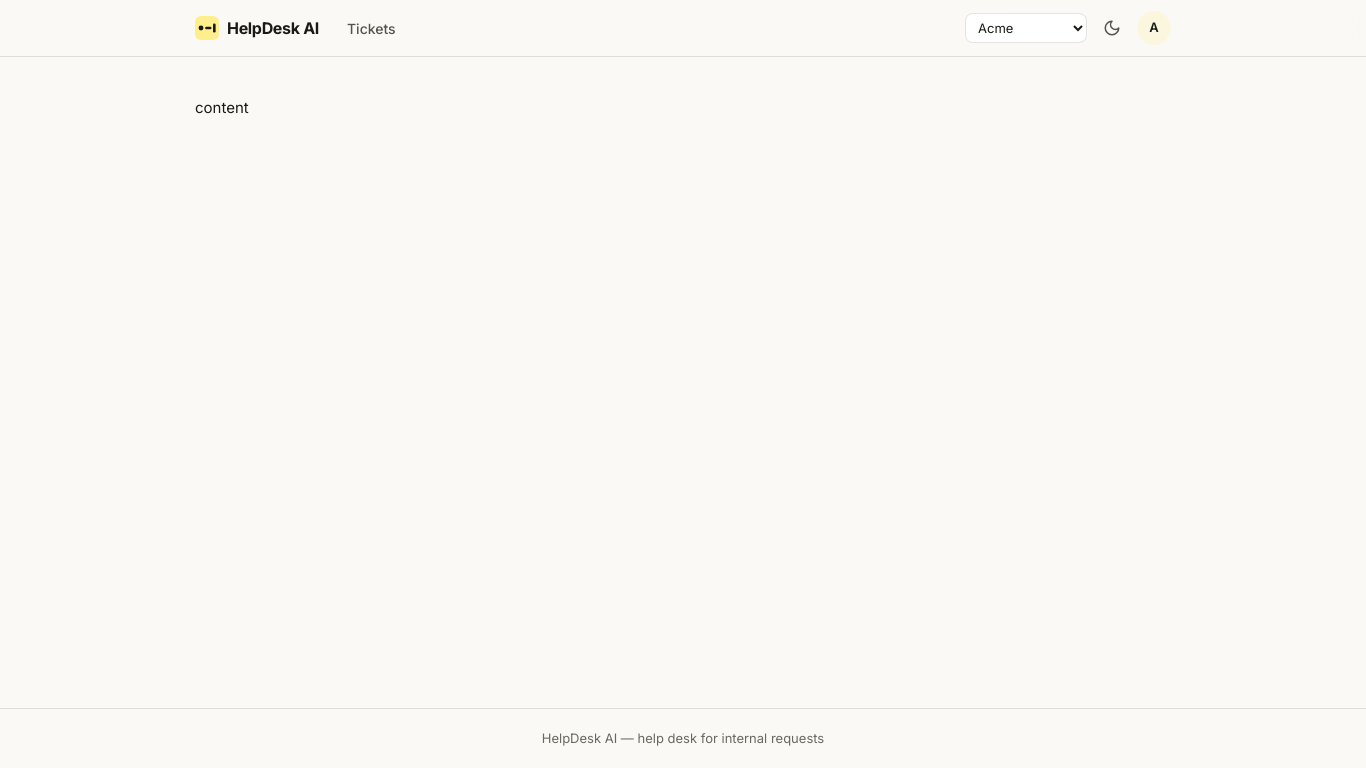
Test: the organization switcher › does not sign anybody out when a switch is refused
Select "Ferretería Sur" in the dropdown named "Organization": (1026, 28) [965,13,1087,43]
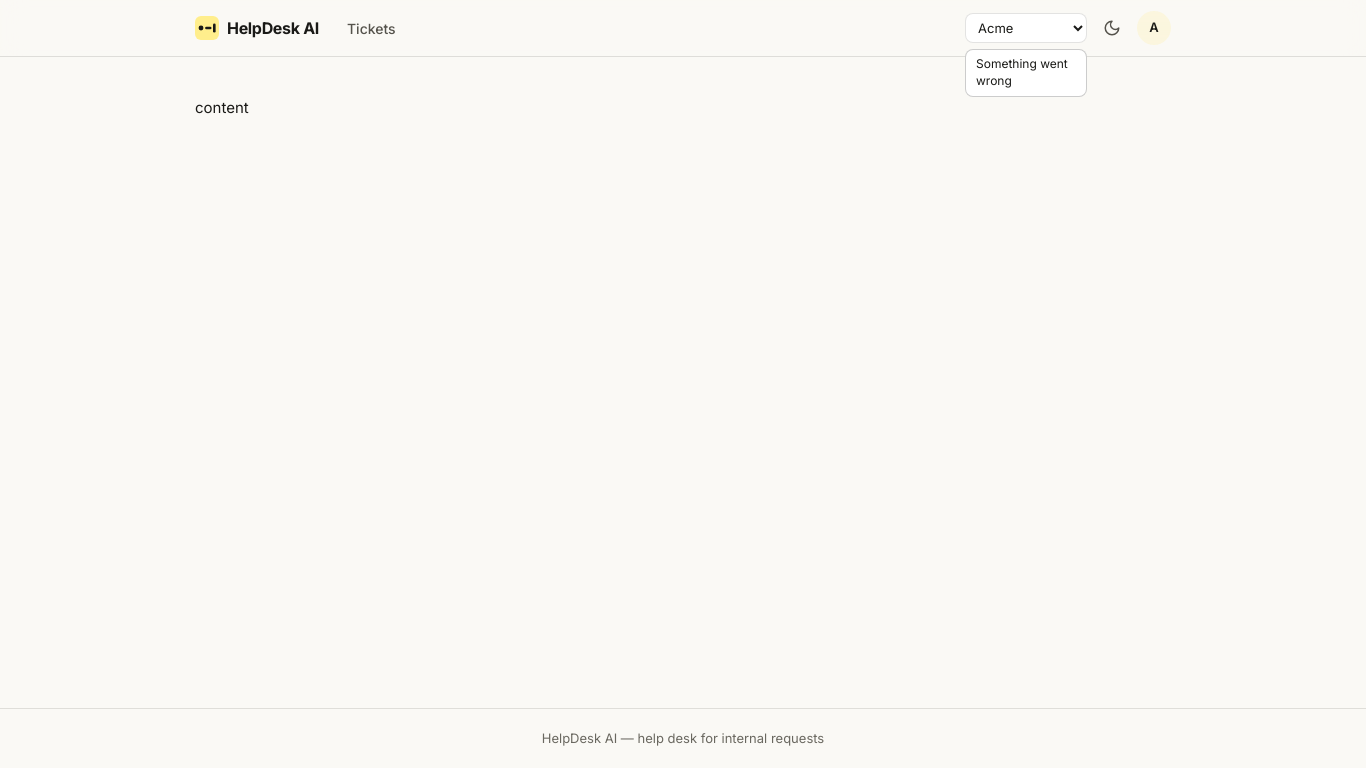
Expected: the heading named "Account menu" is shown, [1137,11,1171,45]
Result: the message "Something went wrong" is shown at [965,49,1087,97]
